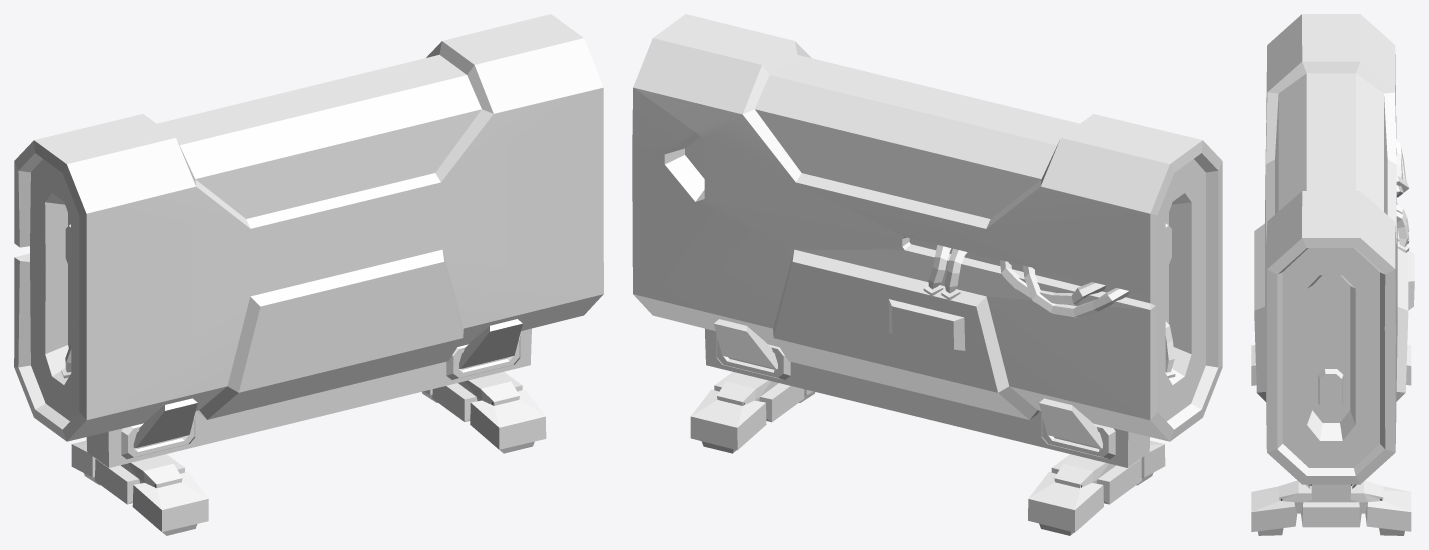
Rendered from Recuperator.glb.
3 views of the same model, side by side, from view 1: azimuth 30°, elevation 25°; view 2: azimuth 150°, elevation 25°; view 3: azimuth 270°, elevation 25° (orthographic). The views are drawn at different scales.
Parts seen in each view (by area): view 1: RecuperatorArenaHologram; view 2: RecuperatorArenaHologram; view 3: RecuperatorArenaHologram.
Boxes of the visible parts, bbox=[...] form: RecuperatorArenaHologram: bbox=[14, 14, 603, 535]; RecuperatorArenaHologram: bbox=[632, 14, 1222, 535]; RecuperatorArenaHologram: bbox=[1251, 14, 1414, 535].
Bounding box in the file's own units: 0.9823 × 0.6713 × 0.3012.
2 materials, 1 textured.
